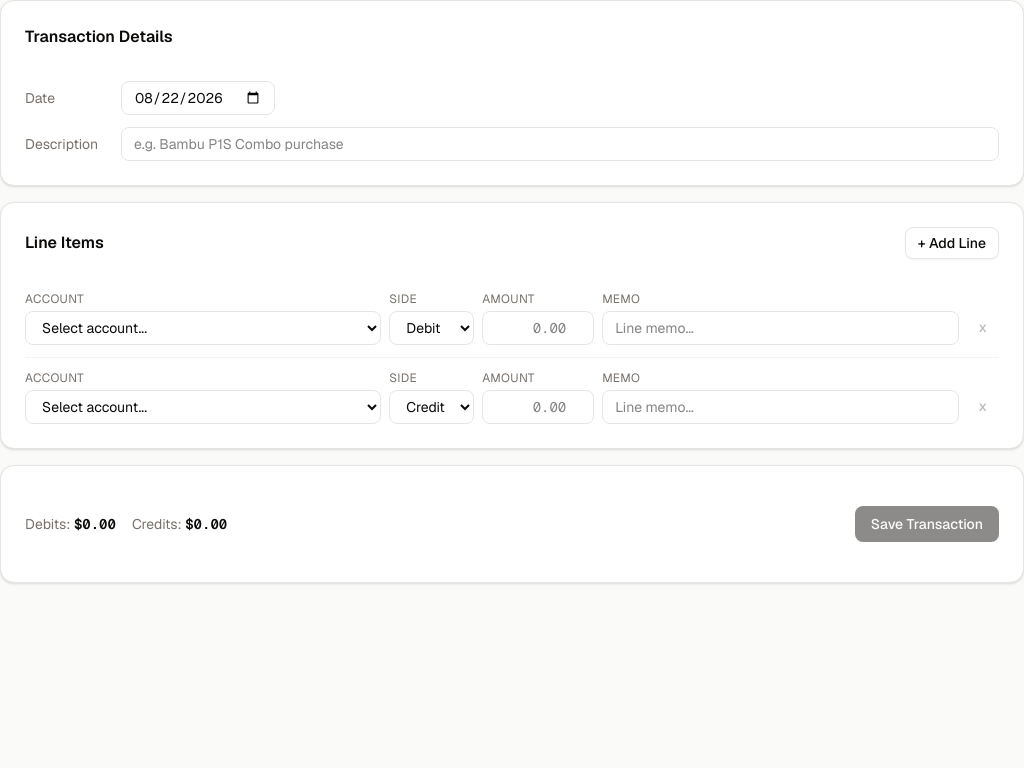
TransactionForm › adds a line when clicking + Add Line
Expected: the text "Account" is shown 2 times, [25,291,84,307]; [25,370,84,386]
Click the button "+ Add Line": (952,243) [905,227,999,259]
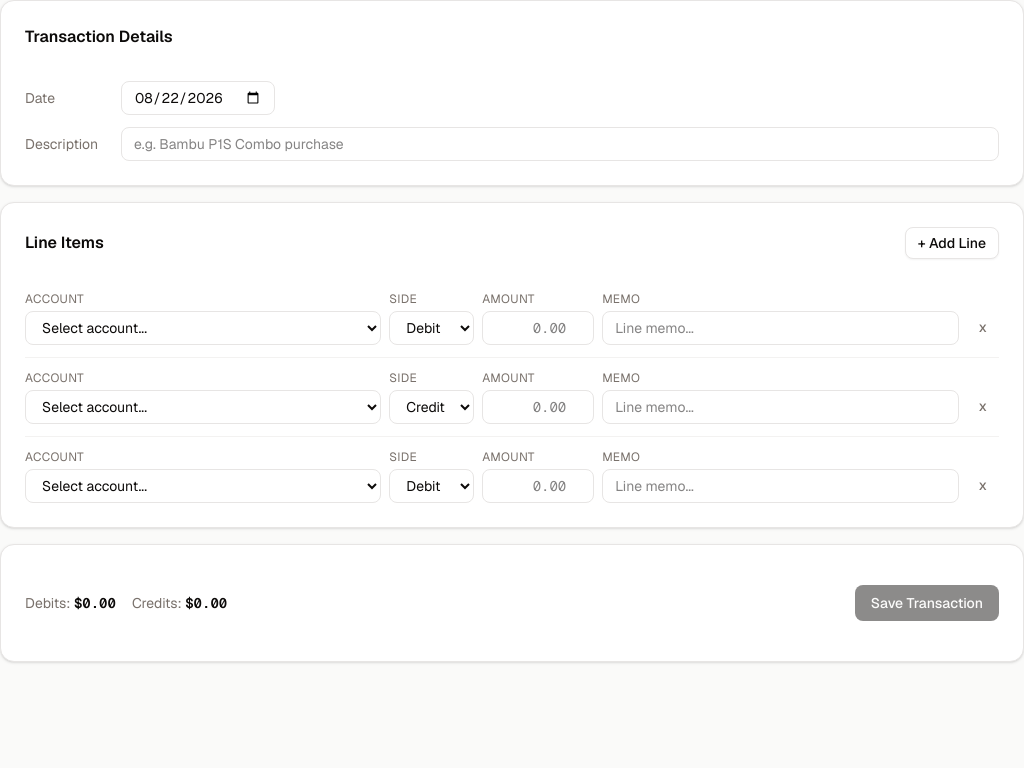
Expected: the text "Account" is shown 3 times, [25,291,84,307]; [25,370,84,386]; [25,449,84,465]
